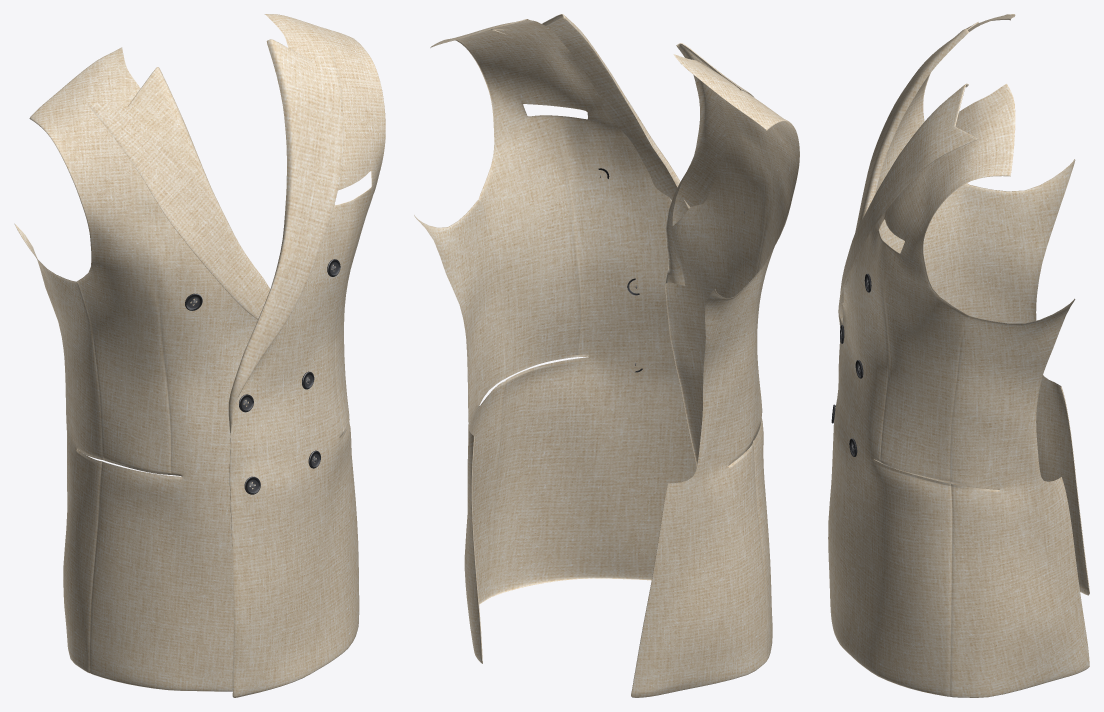
Rendered from doublebreastedpeak.glb.
The picture shows the model from 3 angles, left to right: view 1: azimuth 30°, elevation 25°; view 2: azimuth 150°, elevation 25°; view 3: azimuth 270°, elevation 25°; orthographic projection. The views are drawn at different scales.
Visible parts, largest first — view 1: peak_double_breasted_suit1, double_breasted_buttons; view 2: peak_double_breasted_suit1; view 3: peak_double_breasted_suit1, double_breasted_buttons.
Boxes of the visible parts, x1=… form: peak_double_breasted_suit1: x1=14, y1=14, x2=385, y2=697; double_breasted_buttons: x1=185, y1=259, x2=340, y2=494; peak_double_breasted_suit1: x1=414, y1=14, x2=799, y2=697; peak_double_breasted_suit1: x1=828, y1=14, x2=1089, y2=697; double_breasted_buttons: x1=831, y1=273, x2=871, y2=456.
Size of the model in its own units: 0.0585 by 0.1021 by 0.0414.
Materials: 3 (2 with a texture image).
